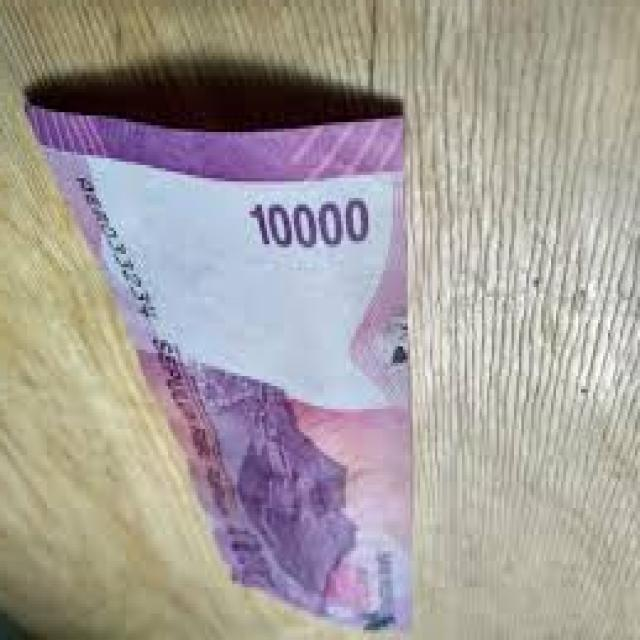sepuluh ribu rupiah: (22, 96, 413, 631)
